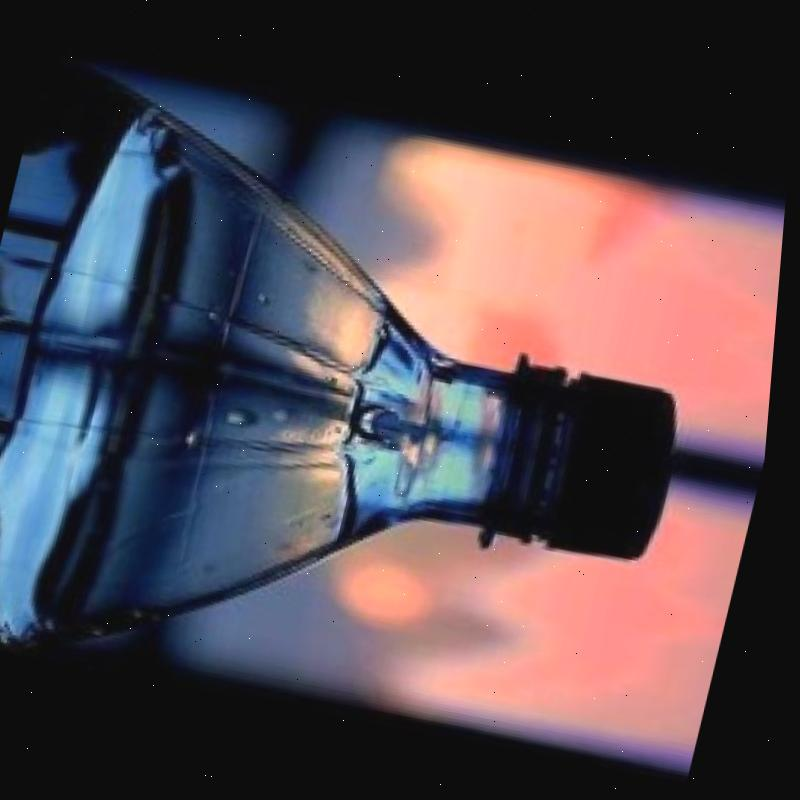botella: (0, 59, 749, 742)
